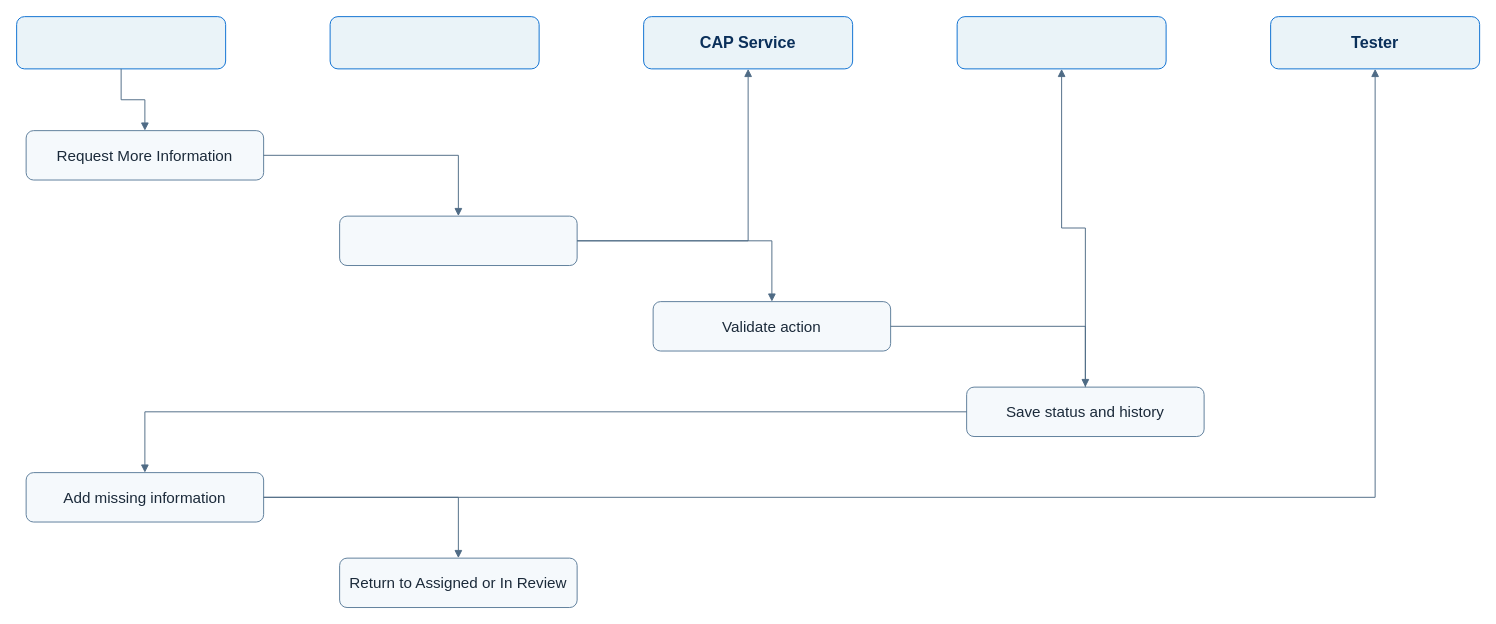
The diagram is 1496 pixels wide and 624 high, and some of its shapes have lost their labels. Here are the shapes that lost their labels. From the top down, the centre of each, then its label:
At (121,42): "Developer".
At (434,42): "Fiori Object Page".
At (1061,42): "Database".
At (458,240): "Enter required reason".
